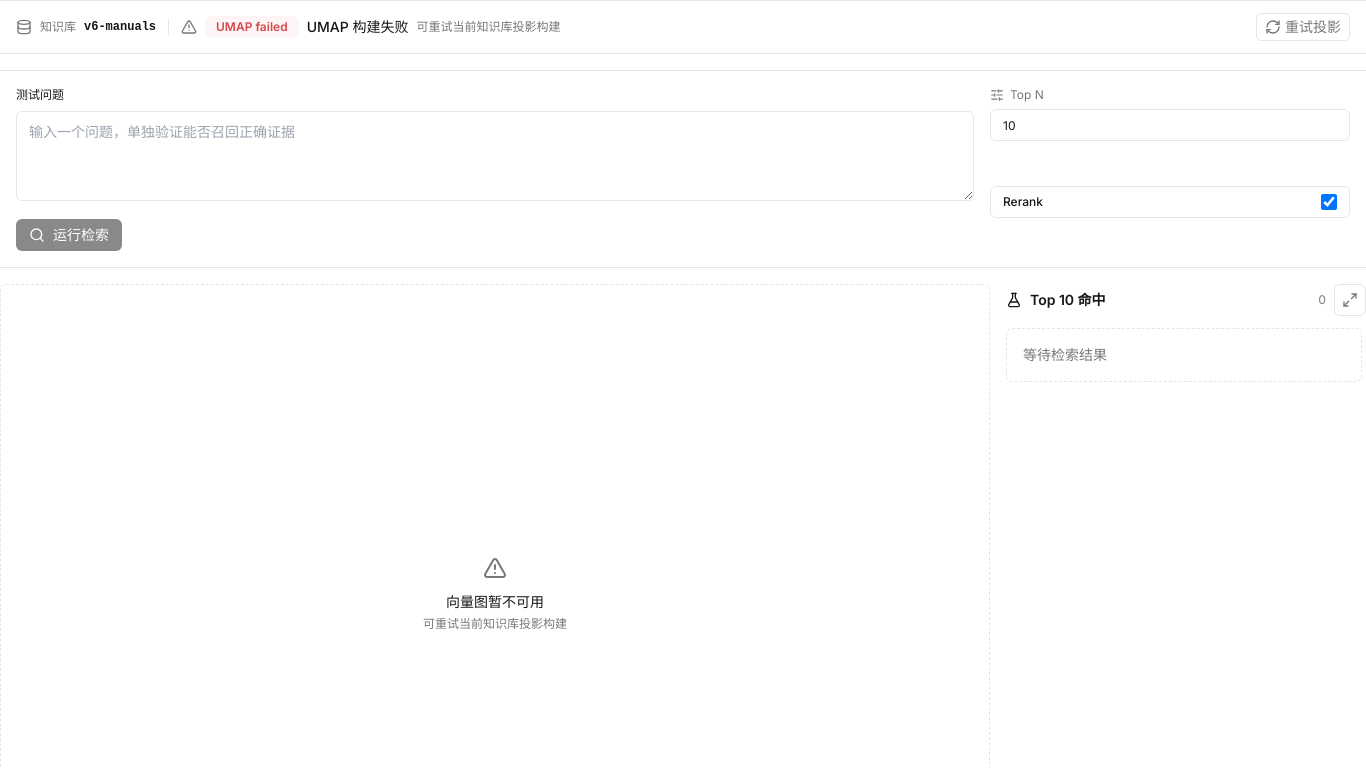
RAGFlow Dataset workspace › keeps retrieval working when the vector map failed
Expected: the text "UMAP 构建失败" is shown, [307, 17, 408, 37]
Type "空气净化器滤网怎么清洁？" into the text box labelled "测试问题" at (495, 156), box [16, 111, 974, 201]
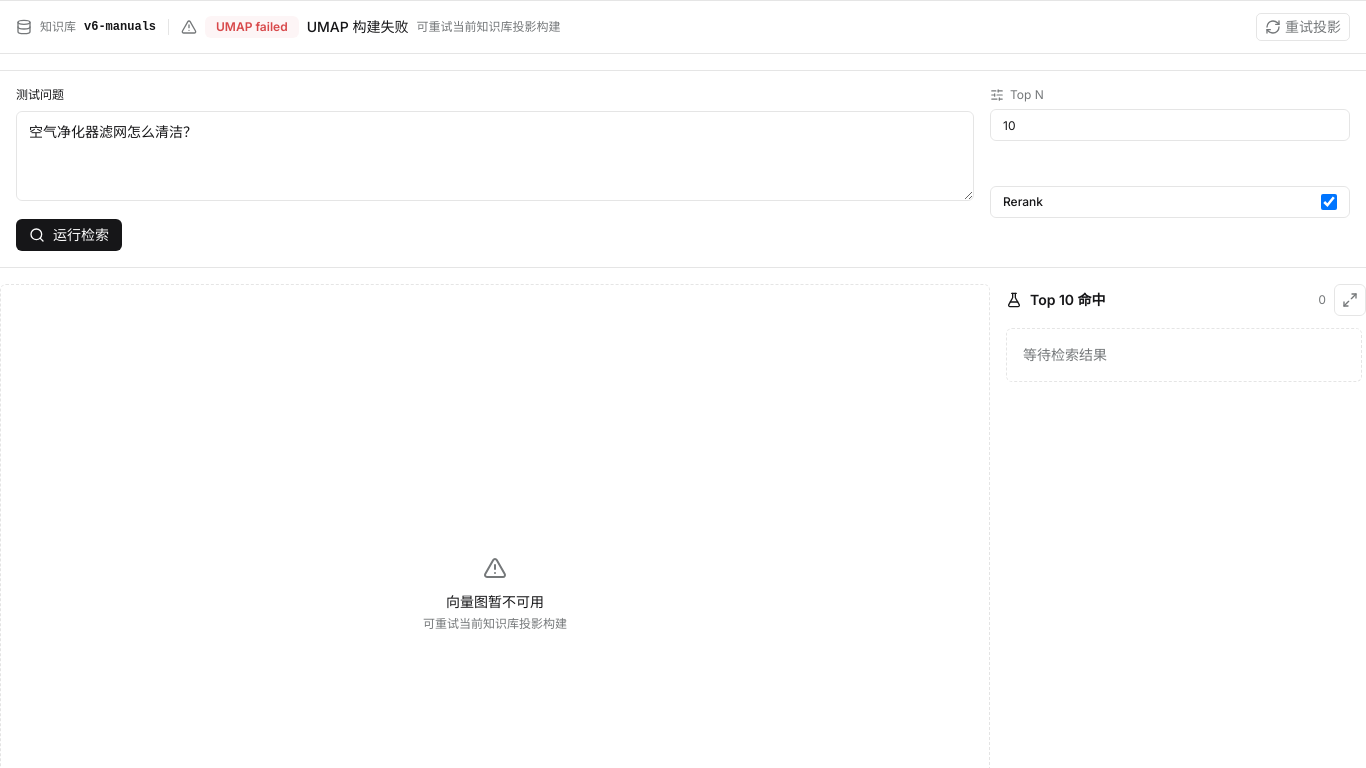
Click the button "运行检索" at (69, 235), box [16, 219, 122, 251]
(page scrolled)
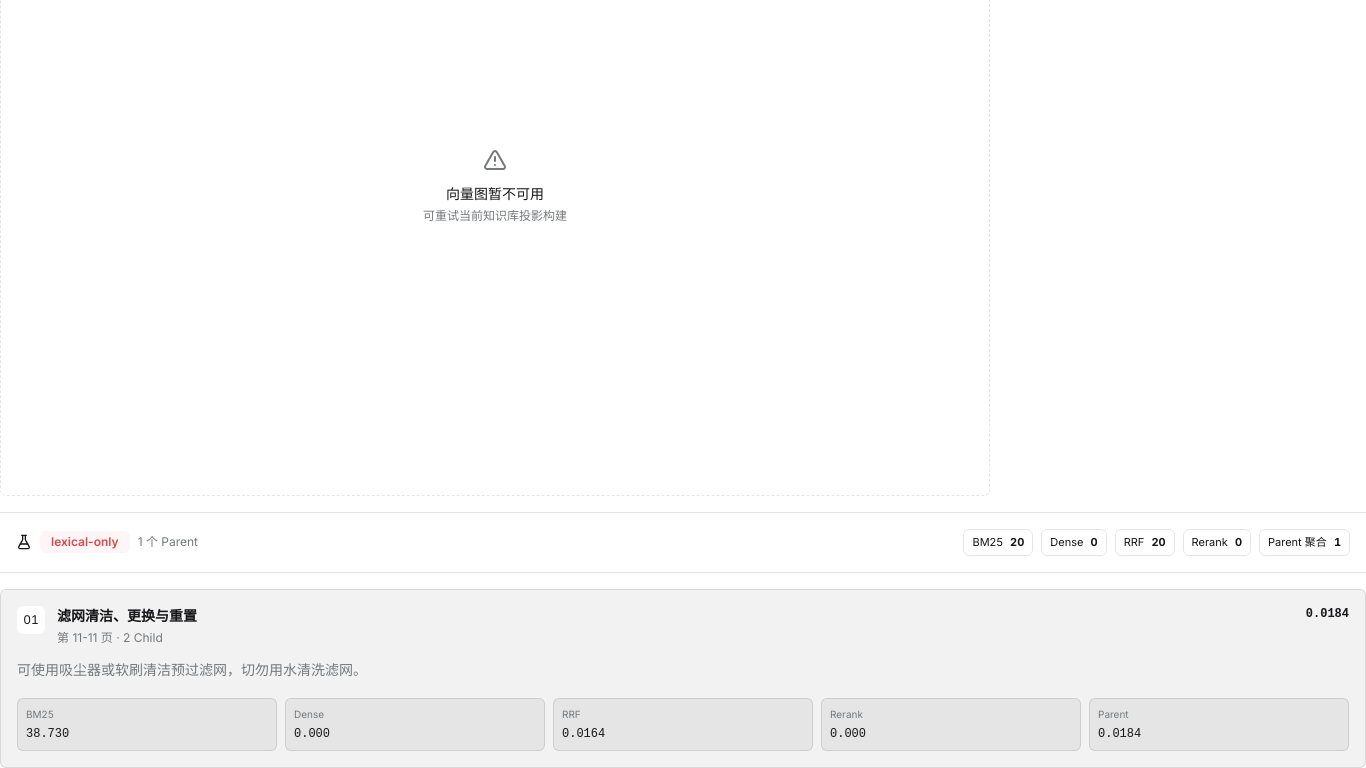
Result: the text "lexical-only" is shown at [40, 531, 130, 553]
Result: the heading "滤网清洁、更换与重置" is shown at [57, 606, 197, 624]
